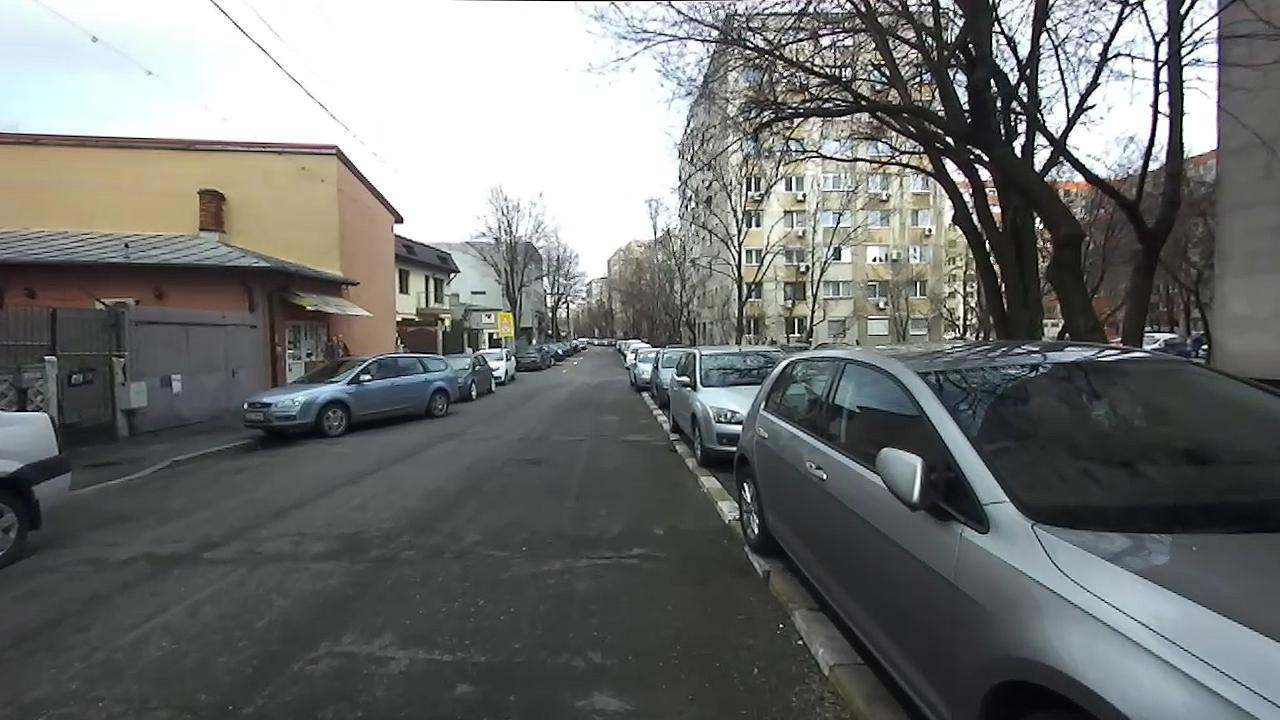pothole: (554, 544, 658, 572)
